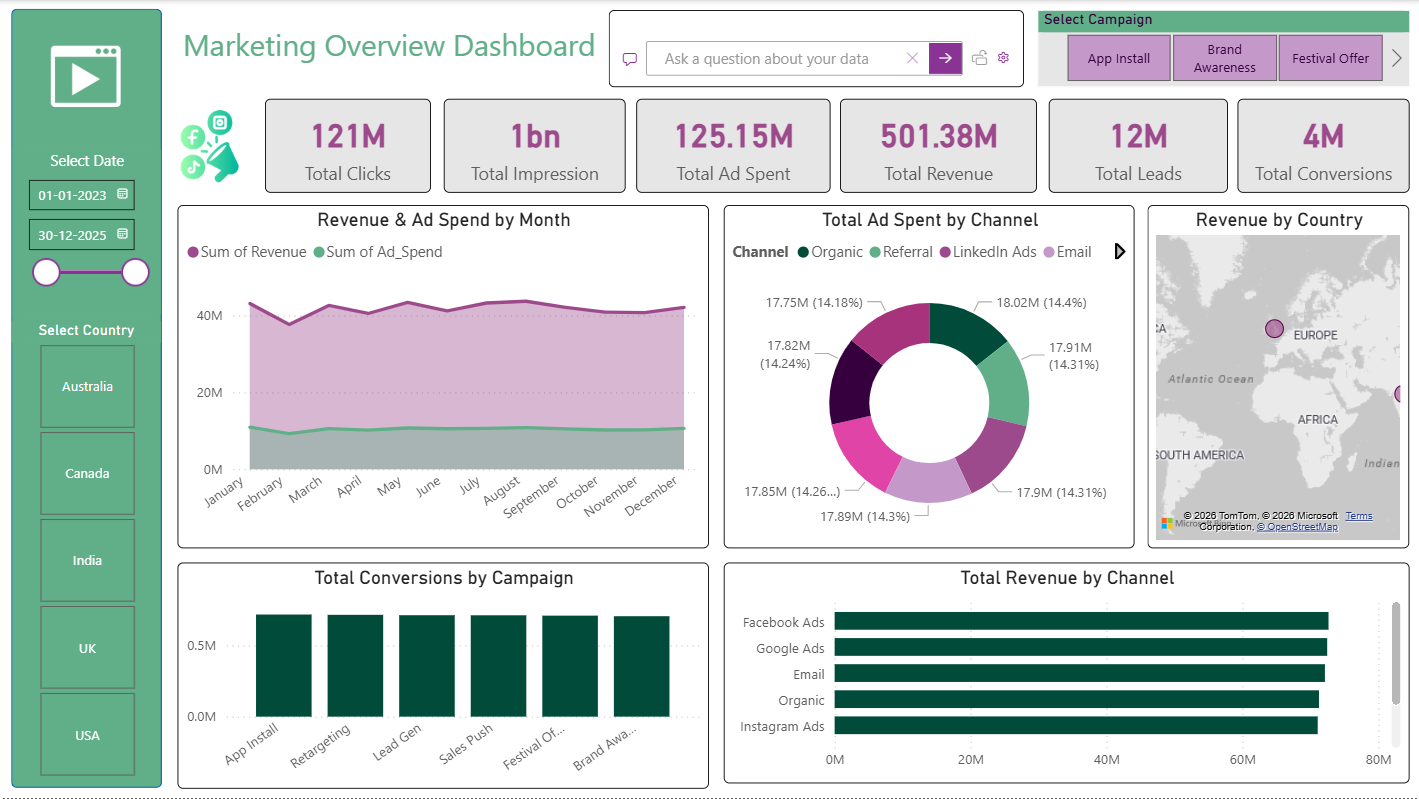

The page's visual inventory and layout, read from the dashboard file:
{"tool":"powerbi","page":{"name":"Marketing Overview Dashboard","canvas":[1280,720],"ordinal":0},"visuals":[{"type":"shape","box":[9.6,8.2,135.8,702.6],"z":0},{"type":"card","fields":{"Values":["Marketing Data.Total Impression"]},"box":[400.6,89.6,164.2,84.6],"z":1000},{"type":"card","fields":{"Values":["Marketing Data.Total Clicks"]},"box":[238.8,89.6,149.3,84.6],"z":2000},{"type":"card","fields":{"Values":["Marketing Data.Total Leads"]},"box":[945.4,89.6,161.7,84.6],"z":3000},{"type":"card","fields":{"Values":["Marketing Data.Total Conversions"]},"box":[1115.8,89.6,155.5,84.6],"z":4000},{"type":"card","fields":{"Values":["Marketing Data.Total Ad Spent"]},"box":[573.5,89.6,175.4,84.6],"z":5000},{"type":"card","fields":{"Values":["Marketing Data.Total Revenue"]},"box":[757.6,89.6,177.9,84.6],"z":6000},{"type":"areaChart","title":"Revenue & Ad Spend by Month","fields":{"Category":["Marketing Data.Date.Variation.Date Hierarchy.Month"],"Y":["Sum(Marketing Data.Revenue)","Sum(Marketing Data.Ad_Spend)"]},"box":[160.5,185.3,478.9,309.7],"z":7000},{"type":"clusteredBarChart","title":"Total Revenue by Channel","fields":{"Y":["Sum(Marketing Data.Revenue)"],"Category":["Marketing Data.Channel"]},"box":[653.1,507.5,618.2,199],"z":8000},{"type":"clusteredColumnChart","title":"Total Conversions by Campaign","fields":{"Y":["Sum(Marketing Data.Conversions)"],"Category":["Marketing Data.Campaign"]},"box":[160.5,507.5,478.9,204],"z":9000},{"type":"donutChart","fields":{"Category":["Marketing Data.Channel"],"Y":["Marketing Data.Total Ad Spent"]},"box":[653.1,185.3,370.7,309.7],"z":10000},{"type":"map","title":"Revenue by Country","fields":{"Category":["Marketing Data.Country"],"Size":["Sum(Marketing Data.Revenue)"]},"box":[1035,185.3,236.4,309.7],"z":11000},{"type":"slicer","title":"Select Campaign","fields":{"Values":["Marketing Data.Campaign"]},"box":[935.5,8.7,335.9,69.7],"z":12000},{"type":"textbox","box":[160.5,17.4,404.3,52.2],"z":13000},{"type":"image","box":[145.5,94.5,87.1,74.6],"z":14000},{"type":"slicer","title":"Select Date","fields":{"Values":["Marketing Data.Date"]},"box":[10,131.9,135.6,154.3],"z":15000},{"type":"image","box":[22.4,37.3,109.5,63.4],"z":16000},{"type":"slicer","title":"Select Country","fields":{"Values":["Marketing Data.Country"]},"box":[10,289.8,135.6,416.7],"z":17000},{"type":"qnaVisual","box":[548.6,8.7,374.4,69.7],"z":18000}]}

Visuals, with their boxes in screenshot pixels (x1, y1, x2, y2):
shape: locate(10, 13, 159, 781)
card - Marketing Data.Total Impression: locate(438, 102, 617, 194)
card - Marketing Data.Total Clicks: locate(261, 102, 424, 194)
card - Marketing Data.Total Leads: locate(1034, 102, 1210, 194)
card - Marketing Data.Total Conversions: locate(1220, 102, 1390, 194)
card - Marketing Data.Total Ad Spent: locate(627, 102, 819, 194)
card - Marketing Data.Total Revenue: locate(828, 102, 1023, 194)
"Revenue & Ad Spend by Month" areaChart: locate(175, 206, 699, 545)
"Total Revenue by Channel" clusteredBarChart: locate(714, 559, 1390, 776)
"Total Conversions by Campaign" clusteredColumnChart: locate(175, 559, 699, 782)
donutChart - Marketing Data.Channel x Marketing Data.Total Ad Spent: locate(714, 206, 1119, 545)
"Revenue by Country" map: locate(1132, 206, 1390, 545)
"Select Campaign" slicer: locate(1023, 13, 1390, 89)
textbox: locate(175, 23, 617, 80)
image: locate(159, 107, 254, 189)
"Select Date" slicer: locate(11, 148, 159, 317)
image: locate(24, 44, 144, 114)
"Select Country" slicer: locate(11, 321, 159, 776)
qnaVisual: locate(600, 13, 1009, 89)
